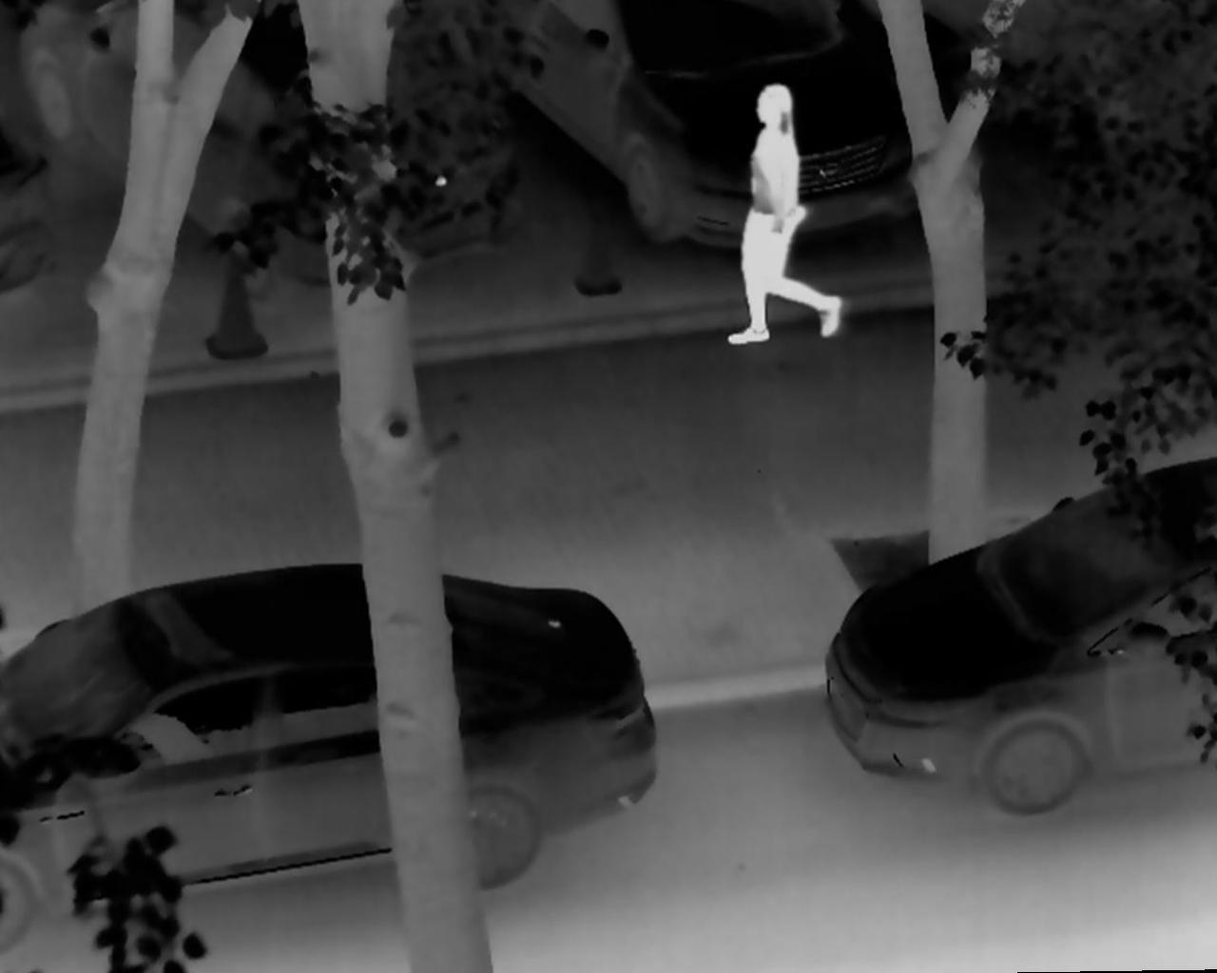person: (727, 76, 845, 346)
